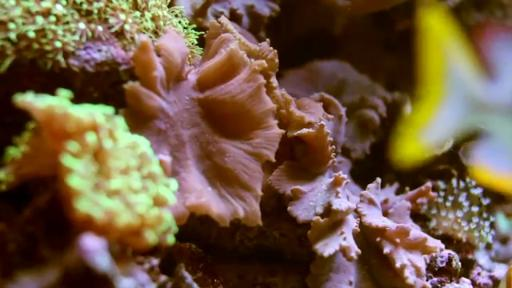Fish: (388, 1, 511, 195), (499, 266, 511, 287)
